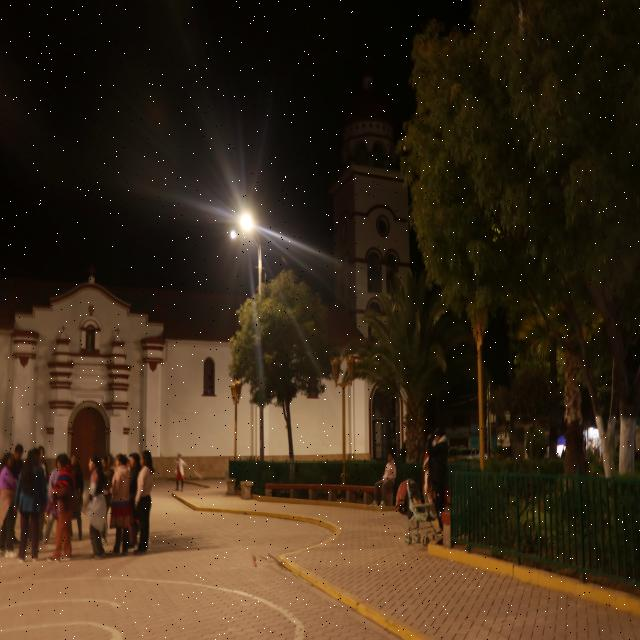CAMPANARIO: (326, 150, 418, 360)
CUPULA: (340, 72, 406, 164)
PORTADA CENTRAL: (45, 343, 137, 497)
TORRES: (312, 58, 434, 506)
colonial-architecture-: (0, 41, 467, 517)
